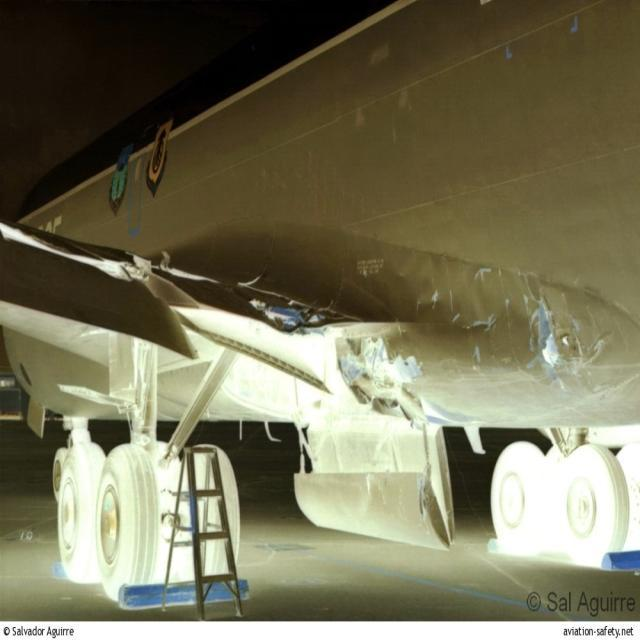dent: (402, 249, 487, 330)
